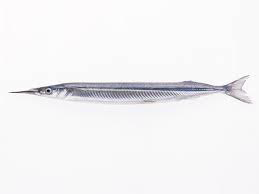sayori: (3, 74, 253, 119)
